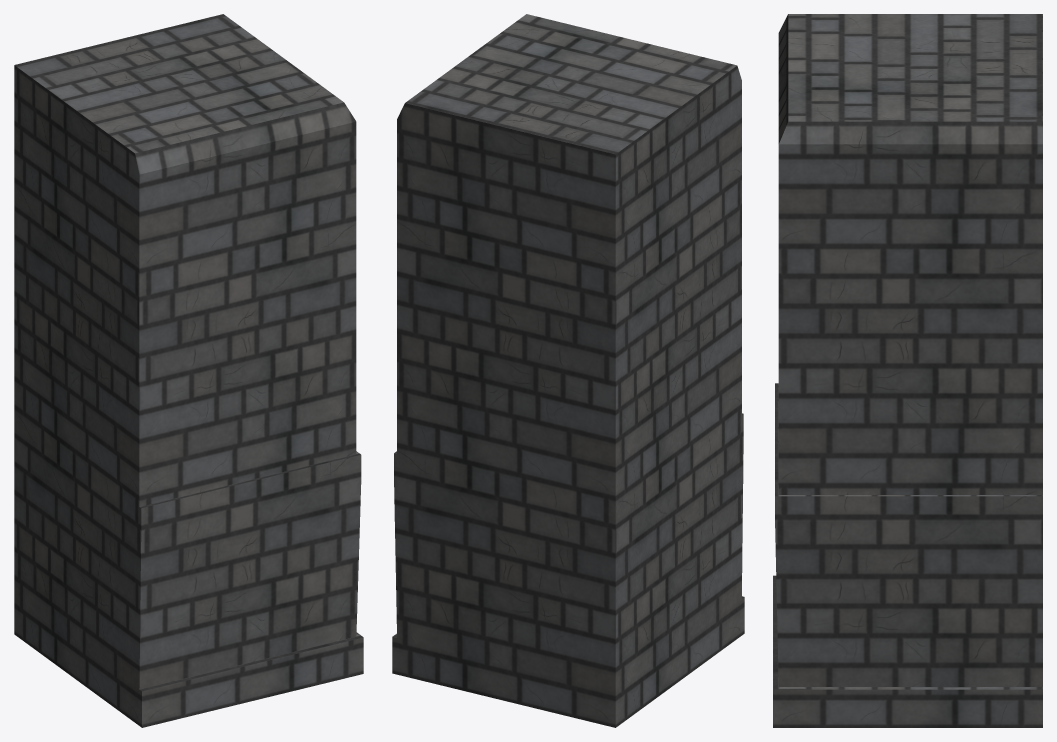
File: kit_wall_corner.glb
3 views of the same model, side by side, from view 1: azimuth 30°, elevation 25°; view 2: azimuth 150°, elevation 25°; view 3: azimuth 270°, elevation 25° (orthographic). The views are drawn at different scales.
Visible parts, largest first — view 1: kit_wall_corner; view 2: kit_wall_corner; view 3: kit_wall_corner.
Boxes of the visible parts, x1,y1,x2,y2 form: kit_wall_corner: [14, 14, 363, 727]; kit_wall_corner: [392, 14, 744, 727]; kit_wall_corner: [773, 14, 1042, 727].
Bounding box in the file's own units: 2.86 × 7.02 × 2.86.
1 material, 1 textured.
